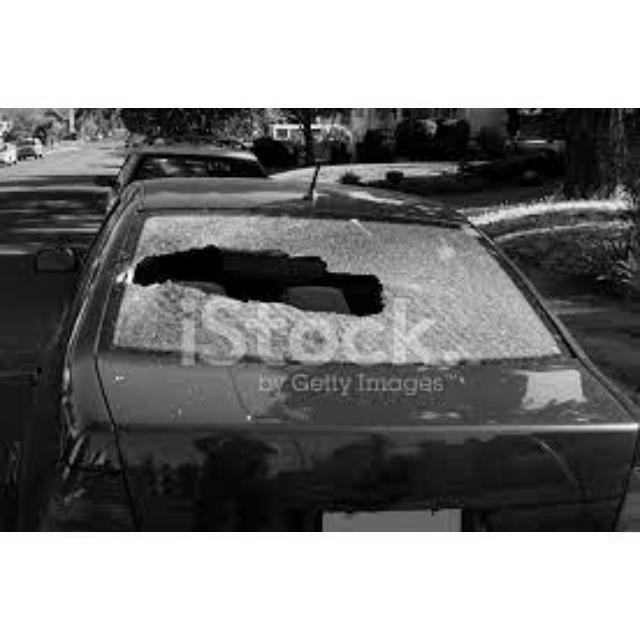Rear-windscreen-Damage: (54, 189, 571, 439)
